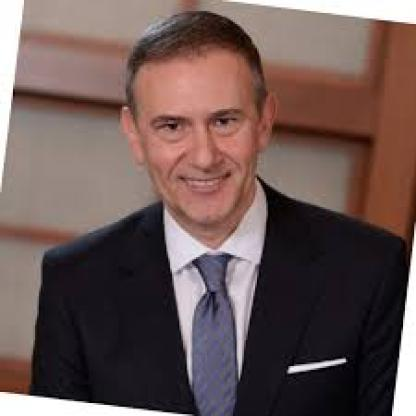person: (124, 8, 278, 231)
